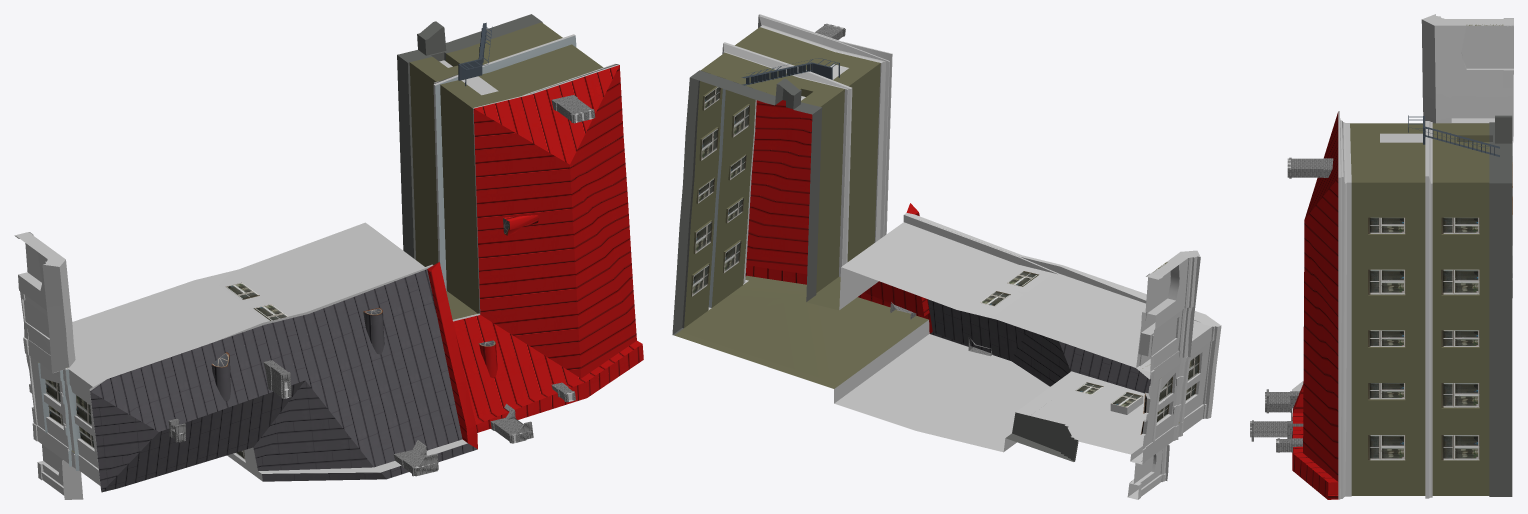
Rendered from Aia_13-origo.obj.
3 views of the same model, side by side, from view 1: azimuth 30°, elevation 25°; view 2: azimuth 150°, elevation 25°; view 3: azimuth 270°, elevation 25° (orthographic). The views are drawn at different scales.
Parts seen in each view (by area): view 1: Aia13; view 2: Aia13; view 3: Aia13.
Boxes of the visible parts, x1,y1,x2,y2 form: Aia13: [14, 14, 643, 499]; Aia13: [672, 14, 1221, 499]; Aia13: [1250, 14, 1513, 499].
Size of the model in its own units: 36 by 22.5 by 14.16.
